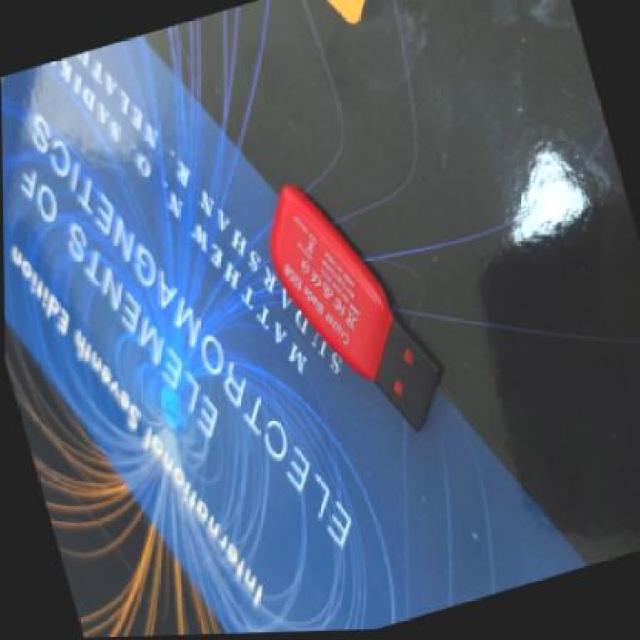Flashdisk: (246, 147, 462, 467)
